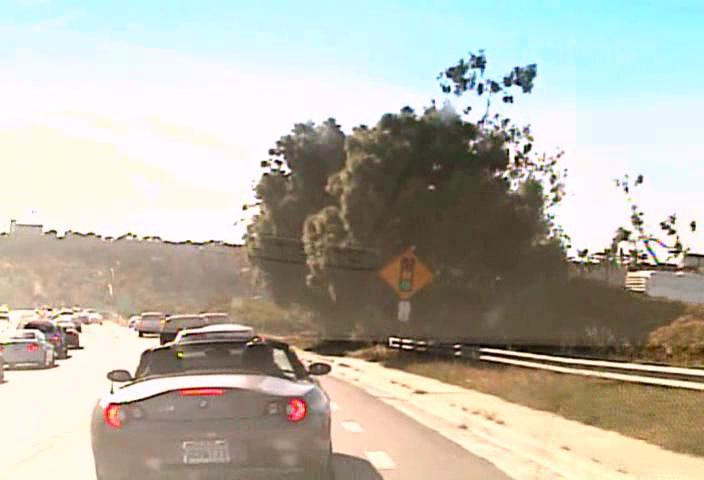signalAhead: (377, 248, 434, 301)
